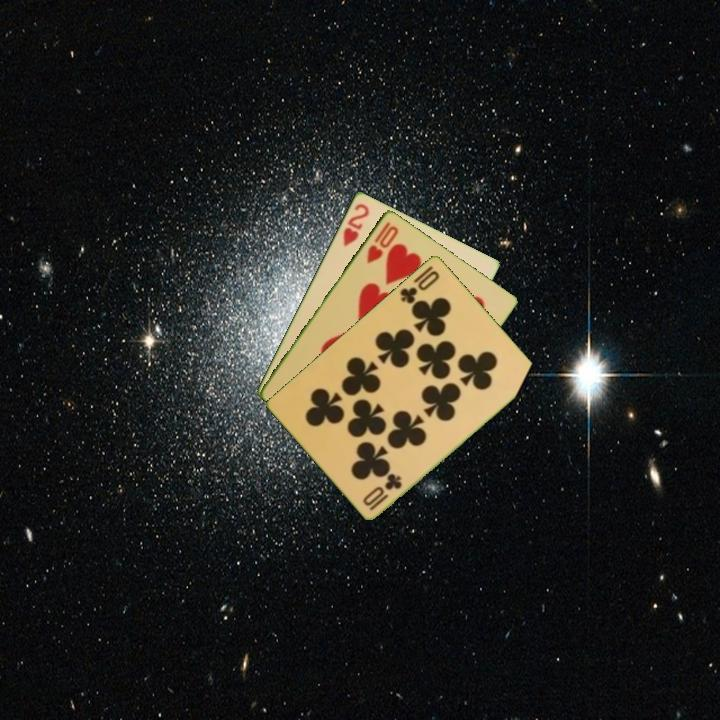10c: (396, 262, 442, 306), (359, 470, 405, 513)
10h: (363, 218, 401, 266)
2h: (339, 200, 372, 249)
